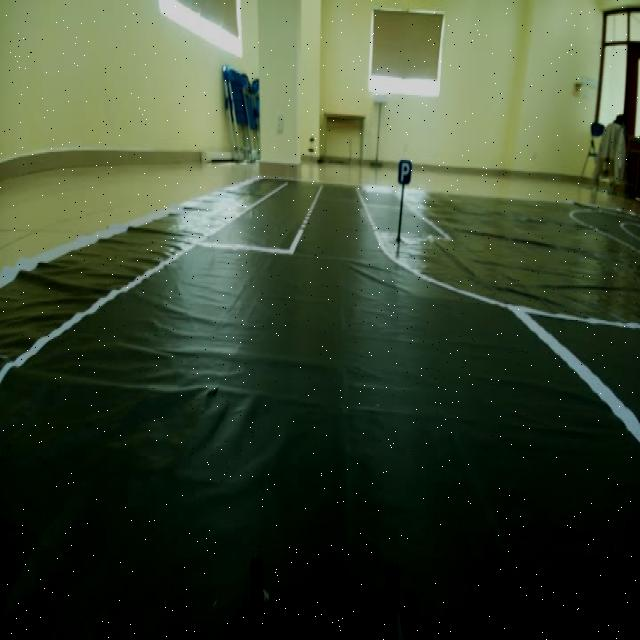parking: (394, 150, 415, 192)
